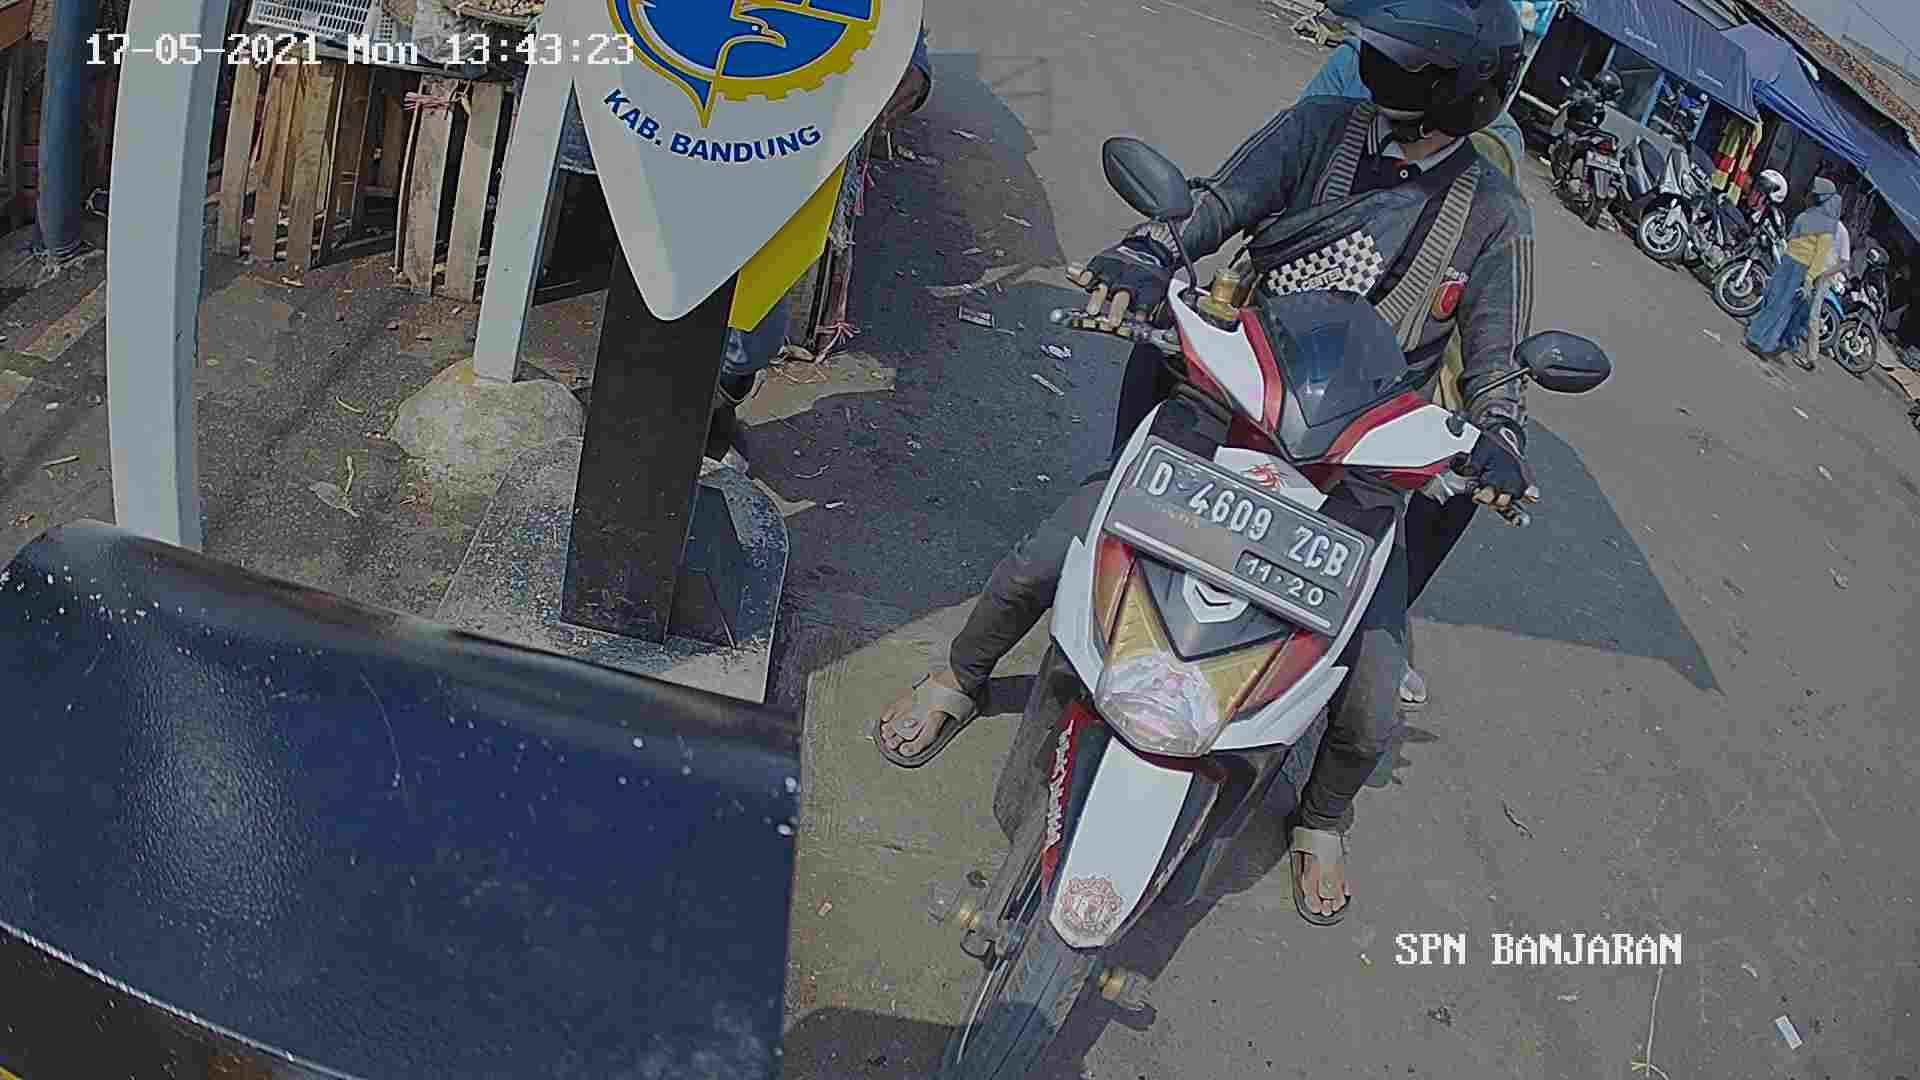motor: (967, 233, 1526, 1072)
